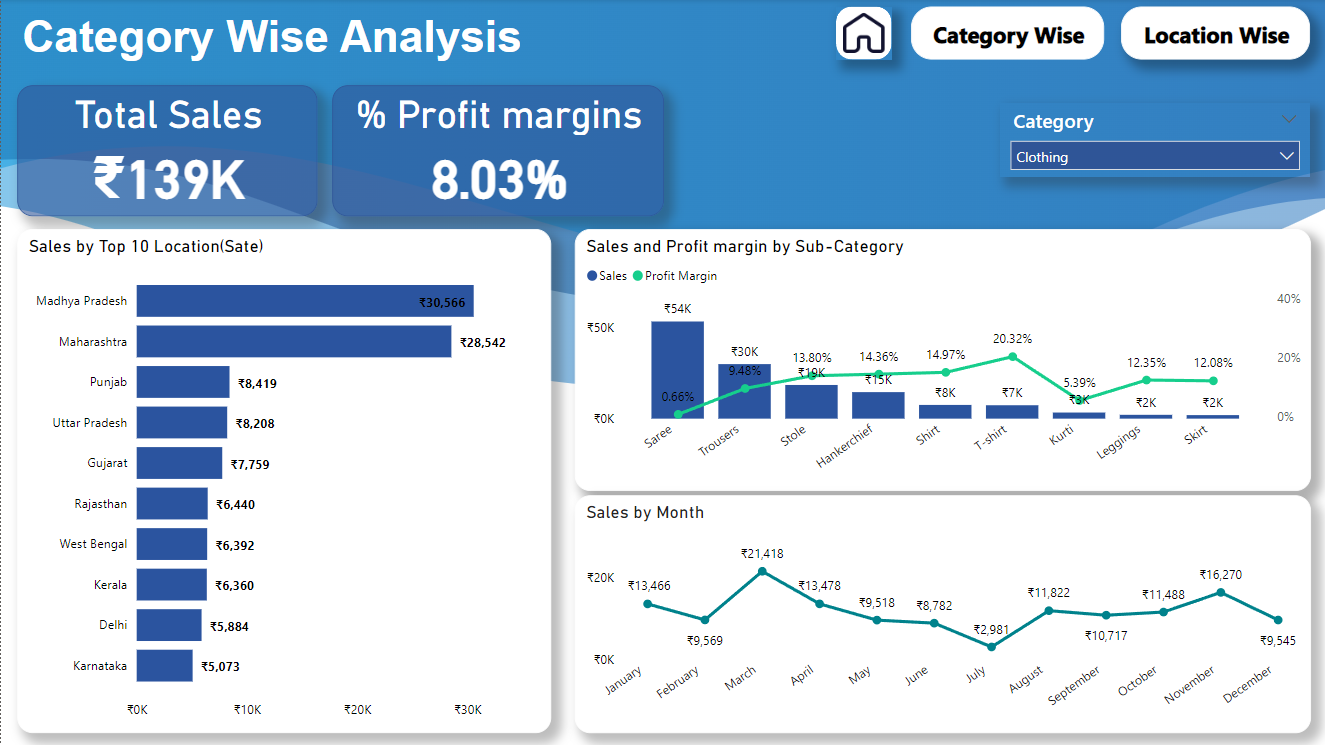

This screenshot's page, from the dashboard's own definition file:
{"tool":"powerbi","page":{"name":"Category wise","canvas":[1280,720],"ordinal":1},"visuals":[{"type":"textbox","box":[15.1,6.9,608.4,63.2],"z":0},{"type":"card","title":"Total Sales","fields":{"Values":["Sum(Order Details.Amount)"]},"box":[15.1,83.8,289.8,126.4],"z":1000},{"type":"card","title":"% Profit margins","fields":{"Values":["Order Details.profit margin"]},"box":[320,83.8,320,126.4],"z":2000},{"type":"lineClusteredColumnComboChart","title":"Sales and Profit margin by Sub-Category","fields":{"Category":["Order Details.Sub-Category"],"Y":["Sum(Order Details.Amount)"],"Y2":["Order Details.profit margin"]},"box":[553.5,222.5,710,252.7],"z":3000},{"type":"clusteredBarChart","title":"Sales by Top 10 Location(Sate)","fields":{"Category":["List of Orders.State"],"Y":["Sum(Order Details.Amount)"]},"box":[15.1,222.5,515,486.2],"z":4000},{"type":"lineChart","fields":{"Category":["List of Orders.Order Date.Variation.Date Hierarchy.Month"],"Y":["Sum(Order Details.Amount)"]},"box":[553.5,479.3,710,229.4],"z":5000},{"type":"actionButton","title":"Over All","box":[877.6,6.9,186.8,50.8],"z":6000},{"type":"actionButton","title":"Over All","box":[1080.9,6.9,182.7,50.8],"z":7000},{"type":"actionButton","box":[806.2,6.9,53.6,50.8],"z":8000},{"type":"slicer","fields":{"Values":["Order Details.Category"]},"box":[964.1,100.3,299.4,71.4],"z":9000}]}

Visuals, with their boxes in screenshot pixels (x1, y1, x2, y2), scaled from the page's 1280x720 canvas onto the 1325x745 screenshot:
textbox: rect(16, 7, 645, 73)
"Total Sales" card: rect(16, 87, 316, 217)
"% Profit margins" card: rect(331, 87, 662, 217)
"Sales and Profit margin by Sub-Category" lineClusteredColumnComboChart: rect(573, 230, 1308, 492)
"Sales by Top 10 Location(Sate)" clusteredBarChart: rect(16, 230, 549, 733)
lineChart - List of Orders.Order Date.Variation.Date Hierarchy.Month x Sum(Order Details.Amount): rect(573, 496, 1308, 733)
"Over All" actionButton: rect(908, 7, 1102, 60)
"Over All" actionButton: rect(1119, 7, 1308, 60)
actionButton: rect(835, 7, 890, 60)
slicer - Order Details.Category: rect(998, 104, 1308, 178)
